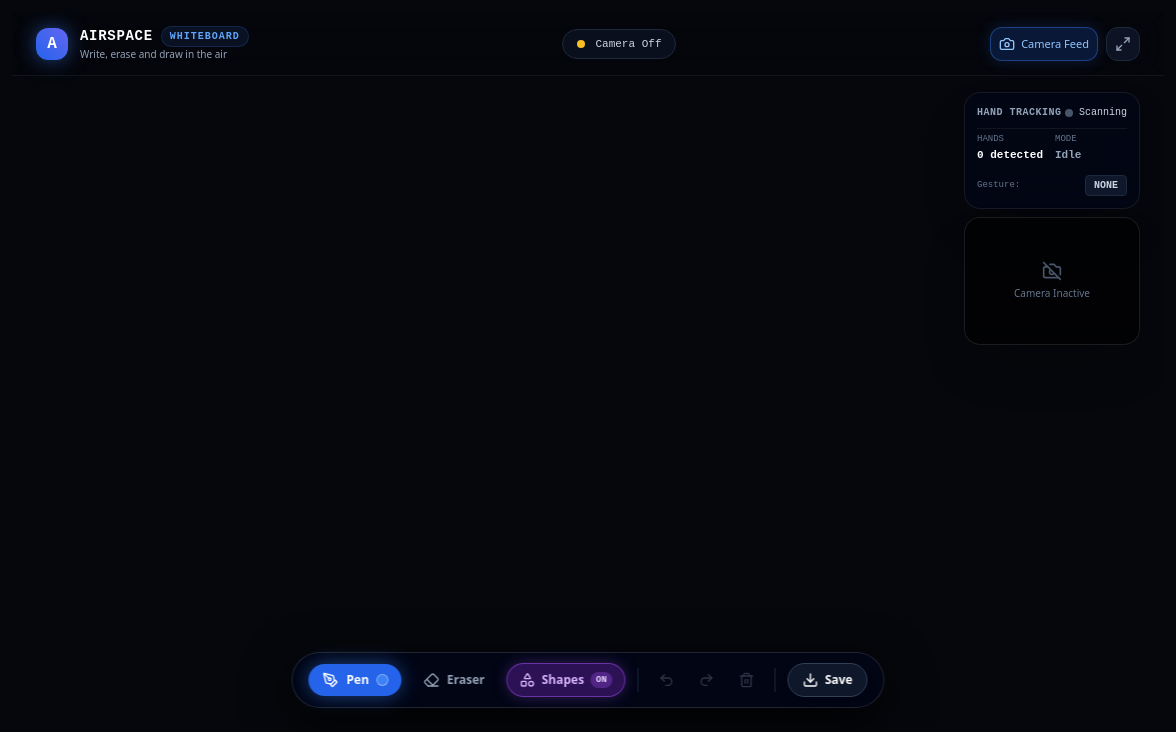
Scenario: AIRSPACE Spatial Whiteboard Component › should toggle tools and shape snapping
Expected: the text "ON" is shown, [590,672,613,688]
# Select Eraser
Click the button titled "Eraser" at (454, 680), box [409,664,499,696]
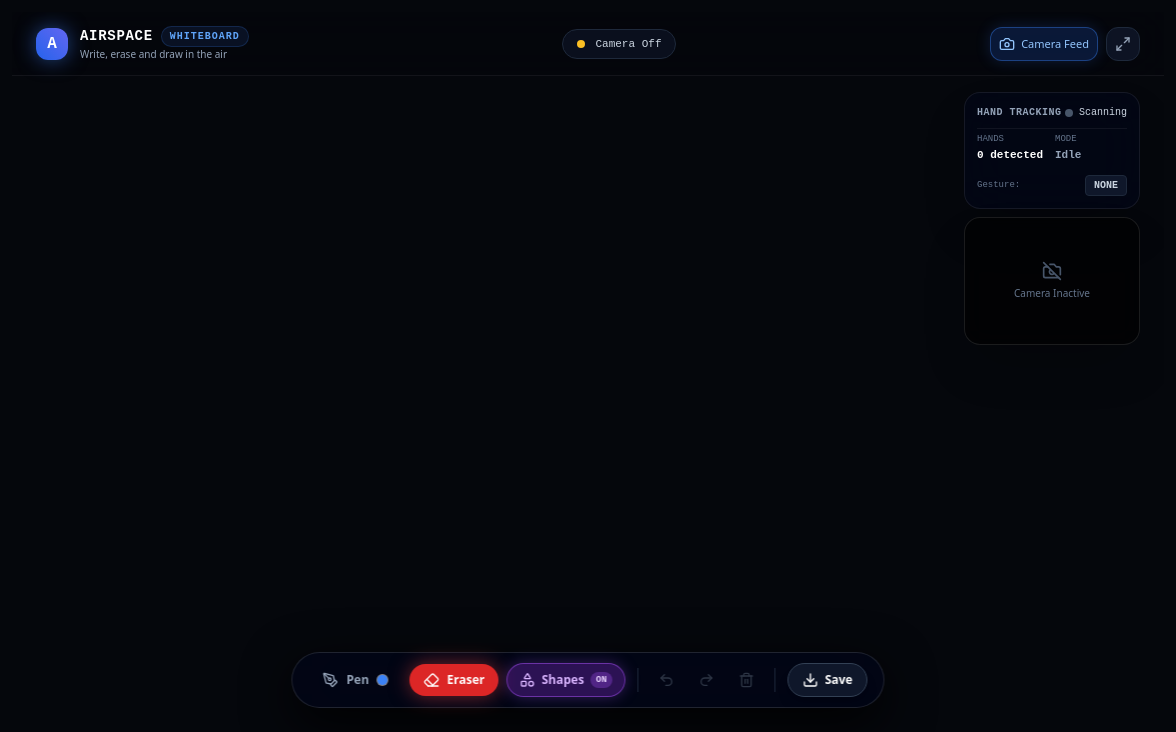
Now the button titled "Eraser" has class "bg-red-600", box [409,664,499,696]
# Toggle Shapes OFF
Click the button titled "Snap hand-drawn" at (566, 680), box [507,663,626,697]
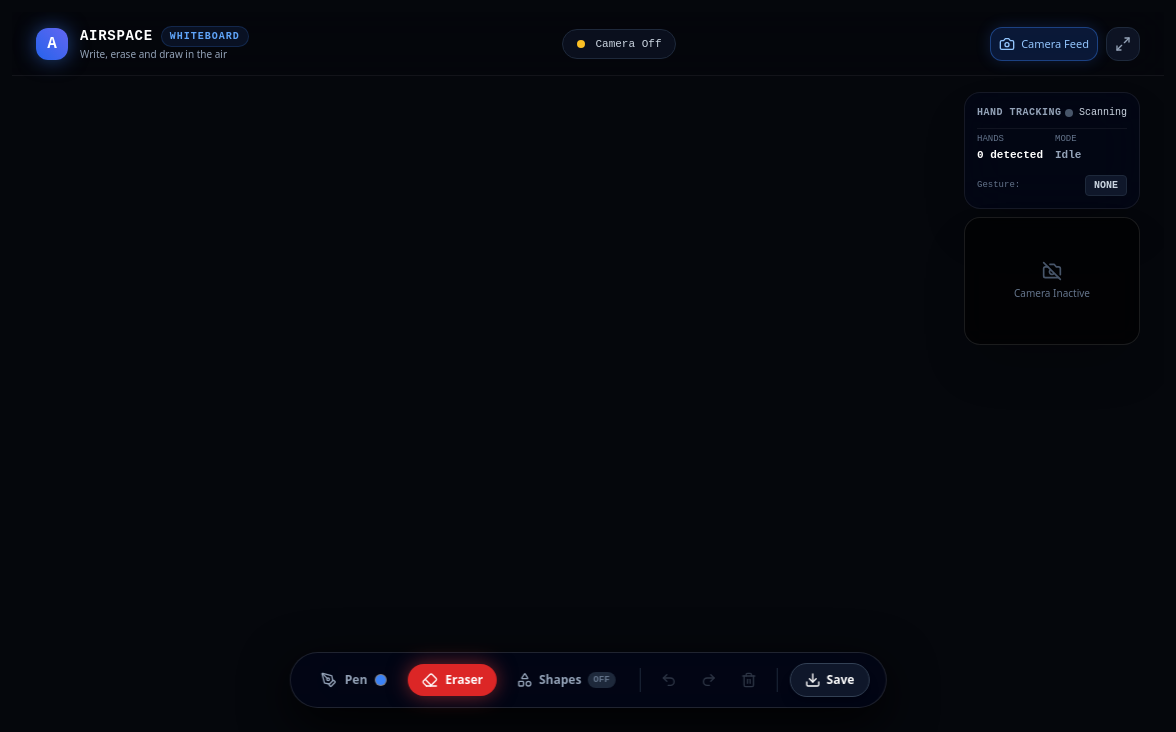
Now the text "OFF" is shown, box [587,672,616,688]
